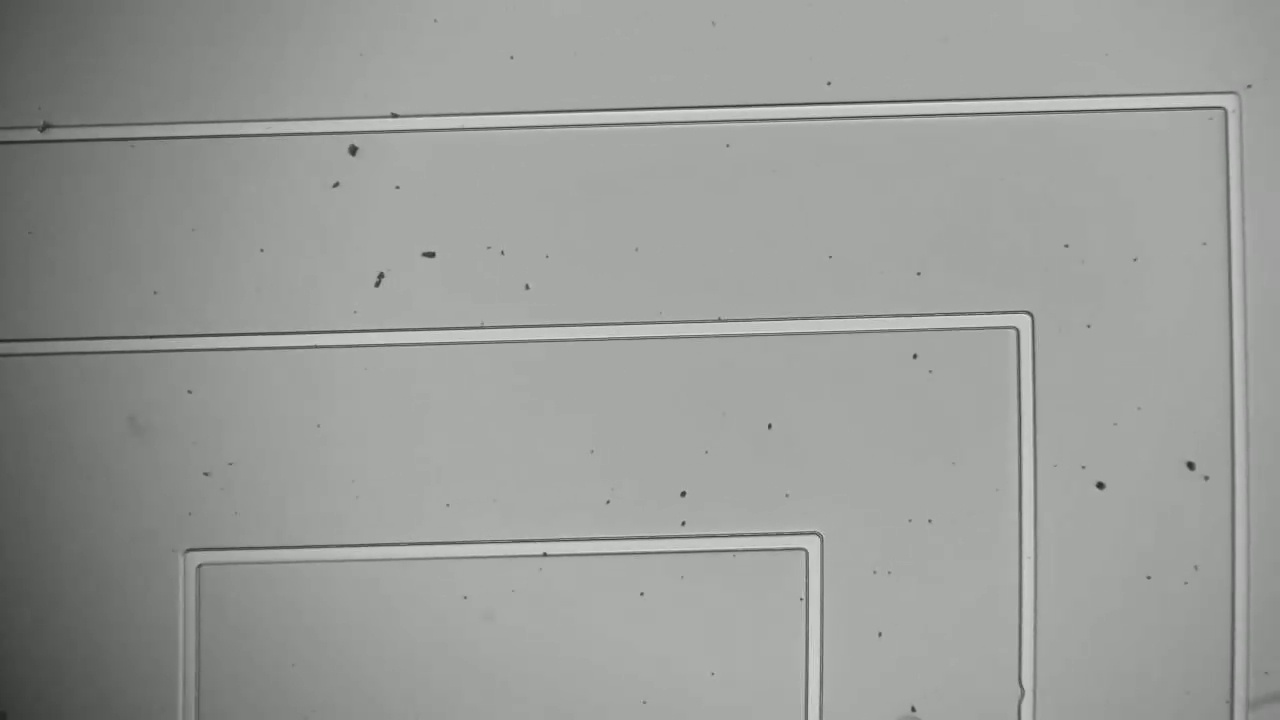edge_bite: (1009, 674, 1045, 707)
stains_enbedded: (30, 116, 59, 148)
